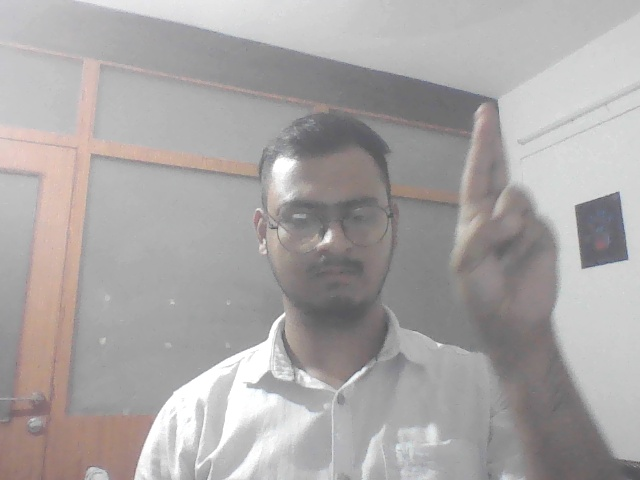GoodLuck: (443, 95, 573, 327)
